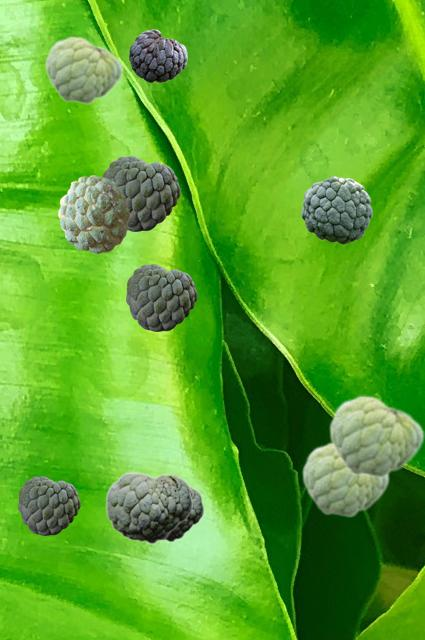atis: (328, 394, 423, 478), (301, 441, 388, 517), (105, 471, 192, 543), (102, 156, 179, 230), (58, 175, 128, 252), (44, 35, 122, 104), (301, 176, 371, 243), (126, 264, 196, 330), (18, 476, 79, 534), (129, 29, 186, 81), (163, 485, 203, 541)
